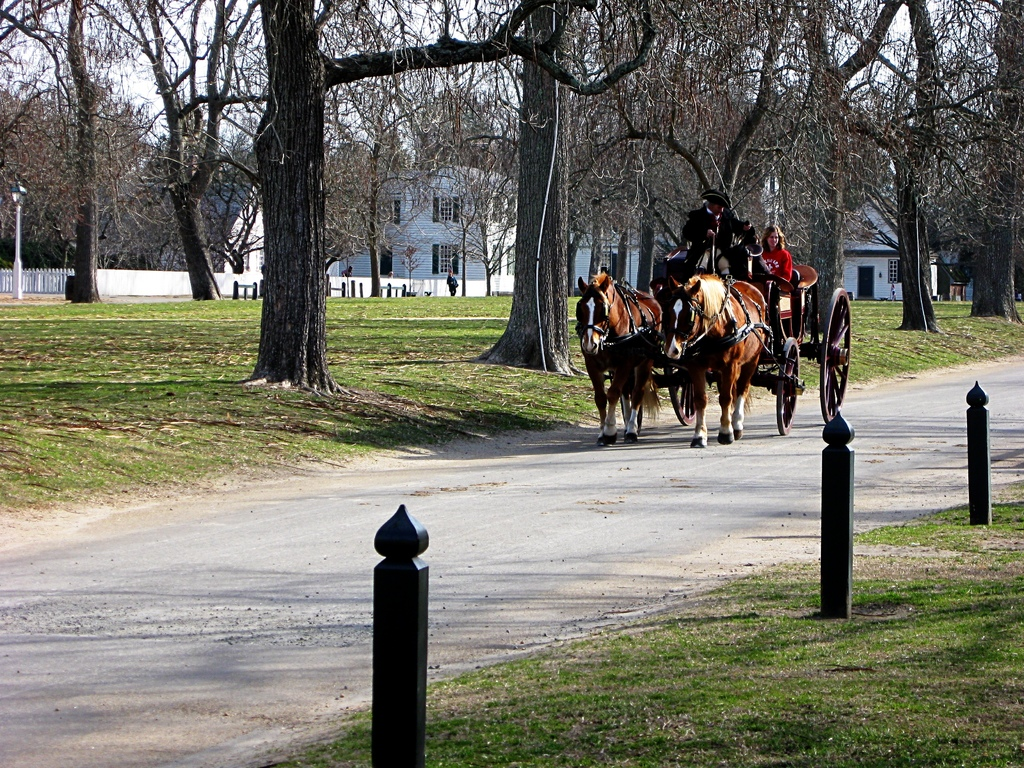horse: (662, 268, 768, 444)
